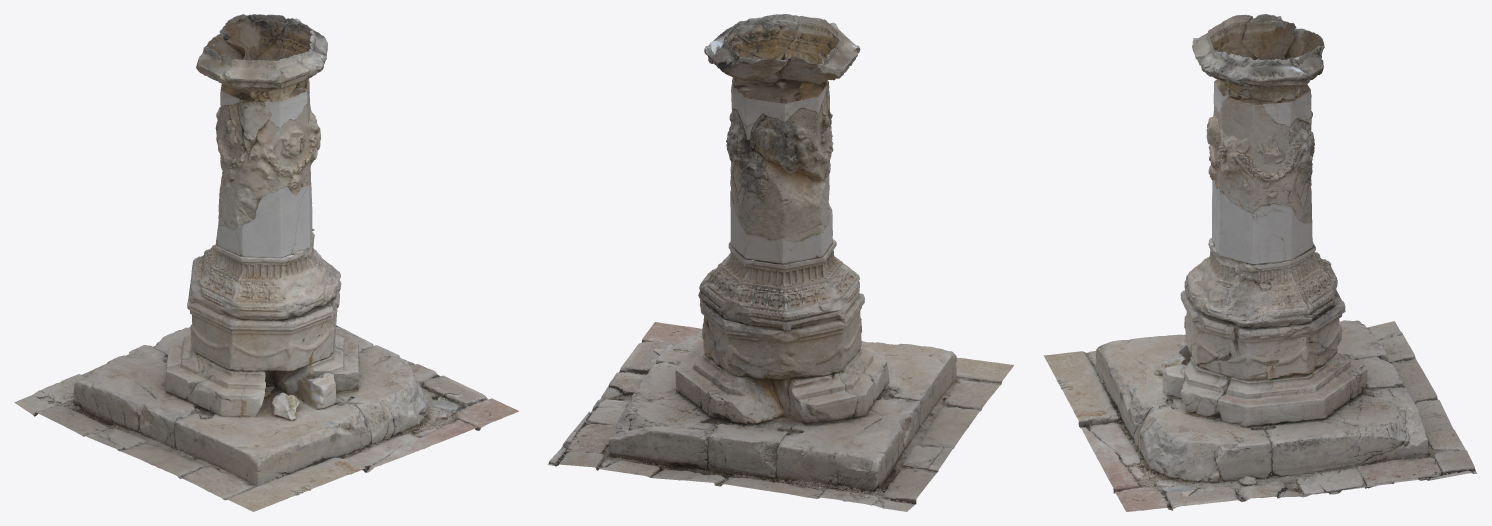
Rendered from sagalassos_pillar.glb.
The picture shows the model from 3 angles, left to right: view 1: azimuth 30°, elevation 25°; view 2: azimuth 150°, elevation 25°; view 3: azimuth 270°, elevation 25°; orthographic projection. The views are drawn at different scales.
Parts seen in each view (by area): view 1: Model; view 2: Model; view 3: Model.
Boxes of the visible parts, x1=… form: Model: x1=14, y1=14, x2=518, y2=511; Model: x1=547, y1=14, x2=1013, y2=511; Model: x1=1043, y1=14, x2=1477, y2=511.
Bounding box in the file's own units: 16.69 × 16.04 × 16.38.
2 materials, 2 textured.
